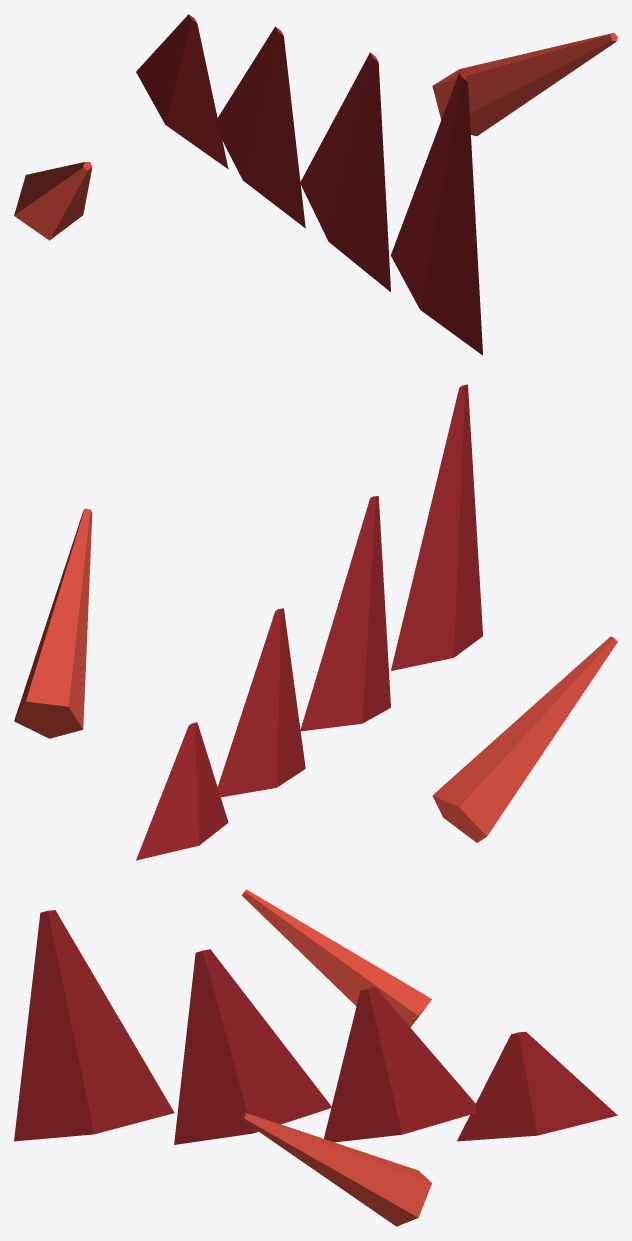
File: crest_ashwyrm.glb
The picture shows the model from 3 angles, top to bottom: view 1: azimuth 30°, elevation 25°; view 2: azimuth 150°, elevation 25°; view 3: azimuth 270°, elevation 25°; orthographic projection. The views are drawn at different scales.
Visible parts, largest first — view 1: Crest_ashwyrm; view 2: Crest_ashwyrm; view 3: Crest_ashwyrm.
Boxes of the visible parts, x1,y1,x2,y2 form: Crest_ashwyrm: (14,14,617,355); Crest_ashwyrm: (14,384,617,860); Crest_ashwyrm: (14,889,617,1226).
Size of the model in its own units: 0.7525 by 0.3633 by 0.8462.
